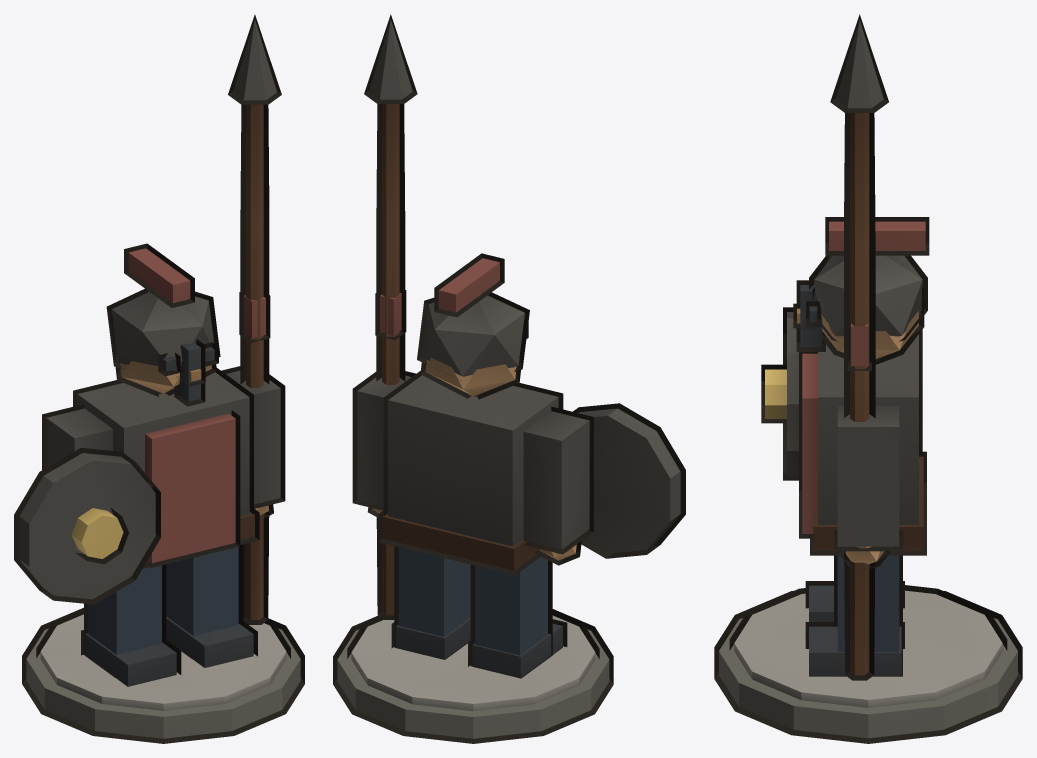
The model's file is pnj_garde.glb.
The picture shows the model from 3 angles, left to right: view 1: azimuth 30°, elevation 25°; view 2: azimuth 150°, elevation 25°; view 3: azimuth 270°, elevation 25°; orthographic projection. The views are drawn at different scales.
Visible parts, largest first — view 1: pnj_garde, pnj_garde_outline; view 2: pnj_garde, pnj_garde_outline; view 3: pnj_garde, pnj_garde_outline.
Boxes of the visible parts, bbox=[...] form: pnj_garde: bbox=[19, 19, 300, 738]; pnj_garde_outline: bbox=[14, 14, 304, 743]; pnj_garde: bbox=[337, 19, 680, 738]; pnj_garde_outline: bbox=[333, 14, 685, 743]; pnj_garde: bbox=[719, 20, 1017, 738]; pnj_garde_outline: bbox=[714, 14, 1022, 743].
Bounding box in the file's own units: 0.8515 × 1.78 × 0.7012.
